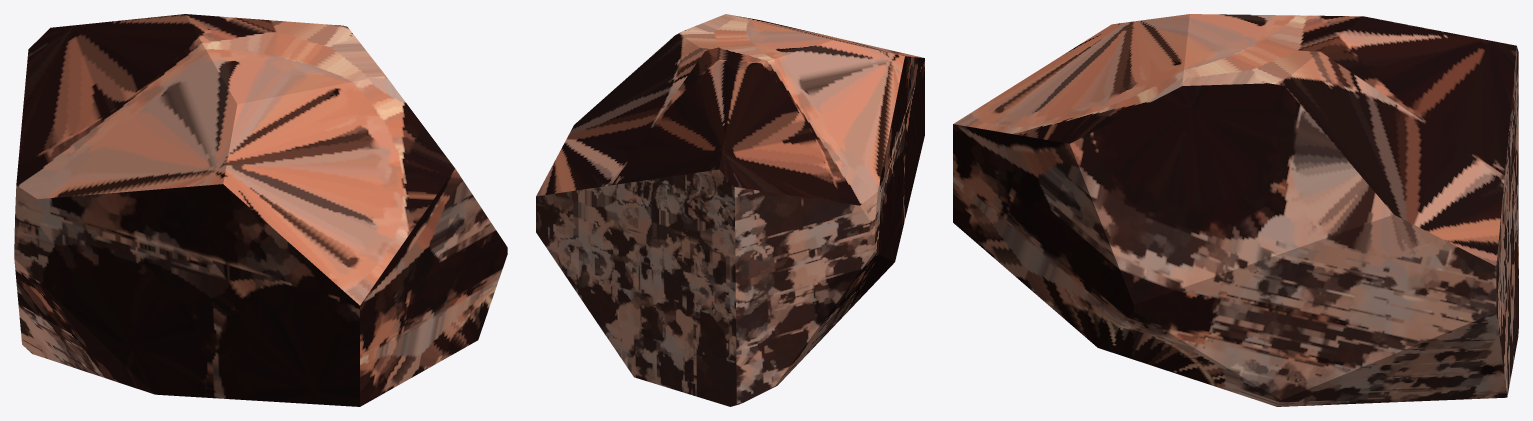
File: Pedra1Caverna.fbx
3 renders of one model, left to right at view 1: azimuth 30°, elevation 25°; view 2: azimuth 150°, elevation 25°; view 3: azimuth 270°, elevation 25°, orthographic. The views are drawn at different scales.
Visible parts, largest first — view 1: Pedra1__2_; view 2: Pedra1__2_; view 3: Pedra1__2_.
Boxes of the visible parts, x1,y1,x2,y2 form: Pedra1__2_: [14, 14, 507, 406]; Pedra1__2_: [536, 14, 924, 406]; Pedra1__2_: [953, 14, 1518, 406].
Bounding box in the file's own units: 1.86 × 1.7 × 2.46.
